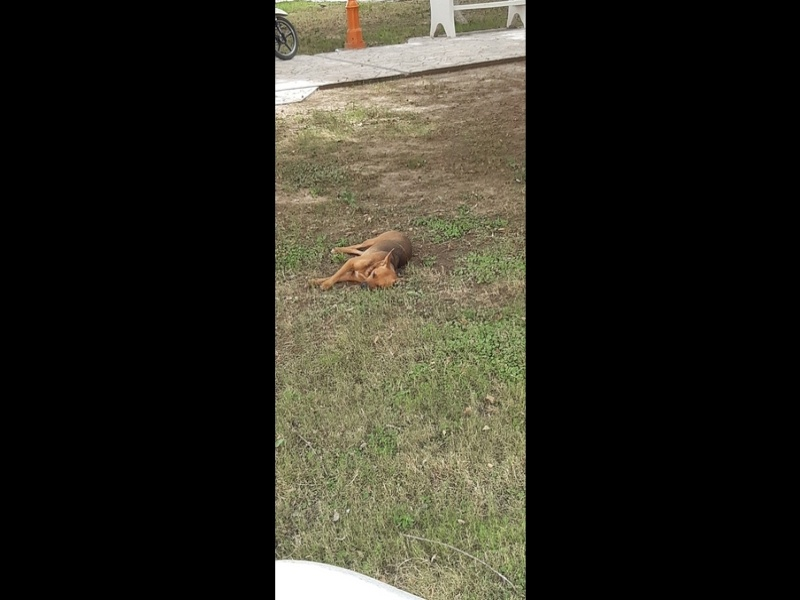dog: (314, 232, 414, 291)
